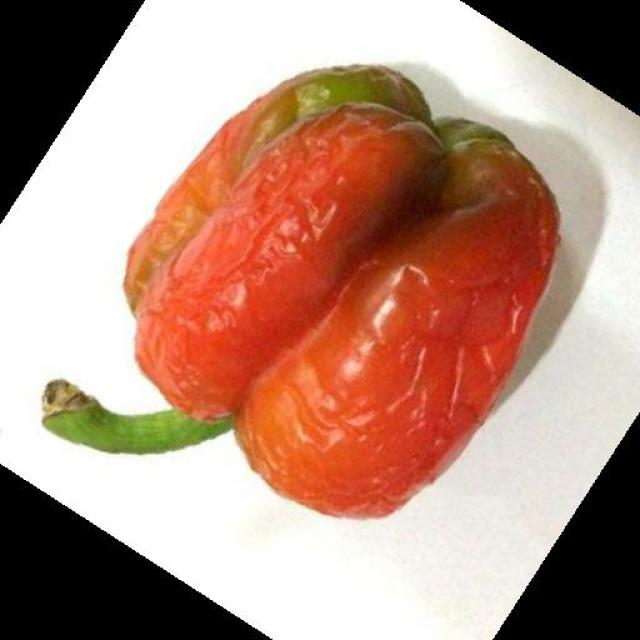Stale_Capsicum: (90, 57, 570, 536)
